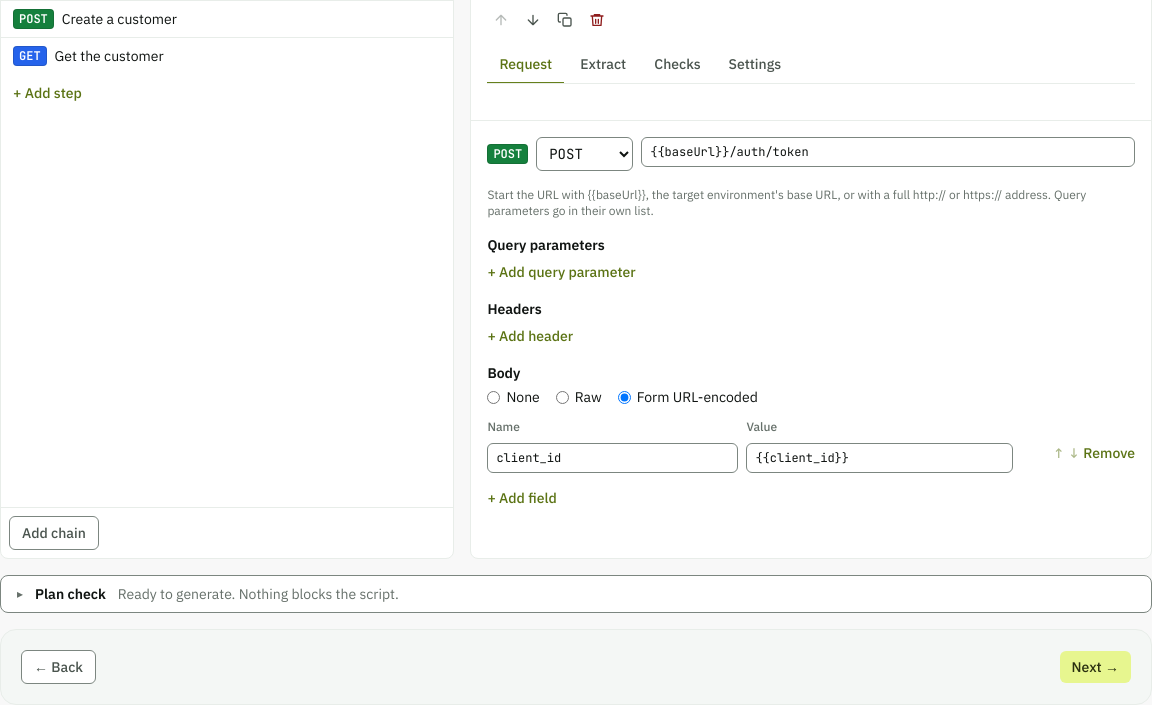
Test: the plan's chains on the Plan step › adds a chain, renames it and deletes it after confirmation
The image size is (1152, 705).
(page scrolled)
Step 1. Click the button "Add chain" → (54, 533), box [9,516,99,550]
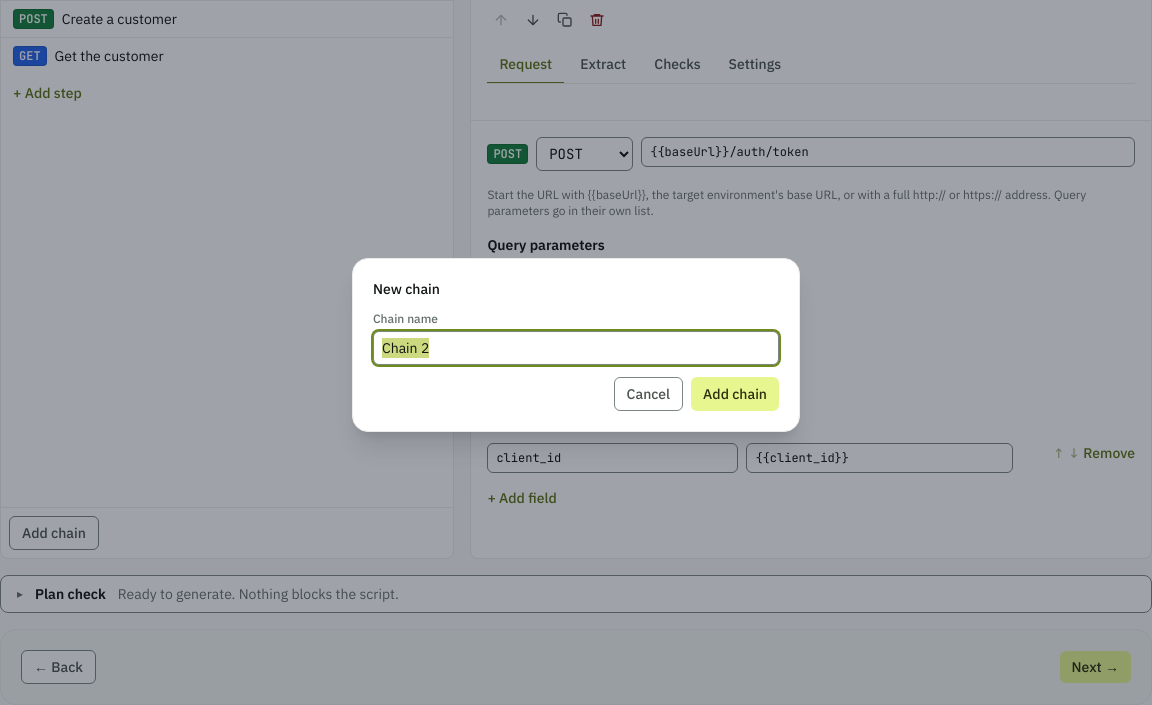
Step 2. Replace the text in the field labelled "Chain name" with "Reports" → (576, 348), box [373,331,779,365]
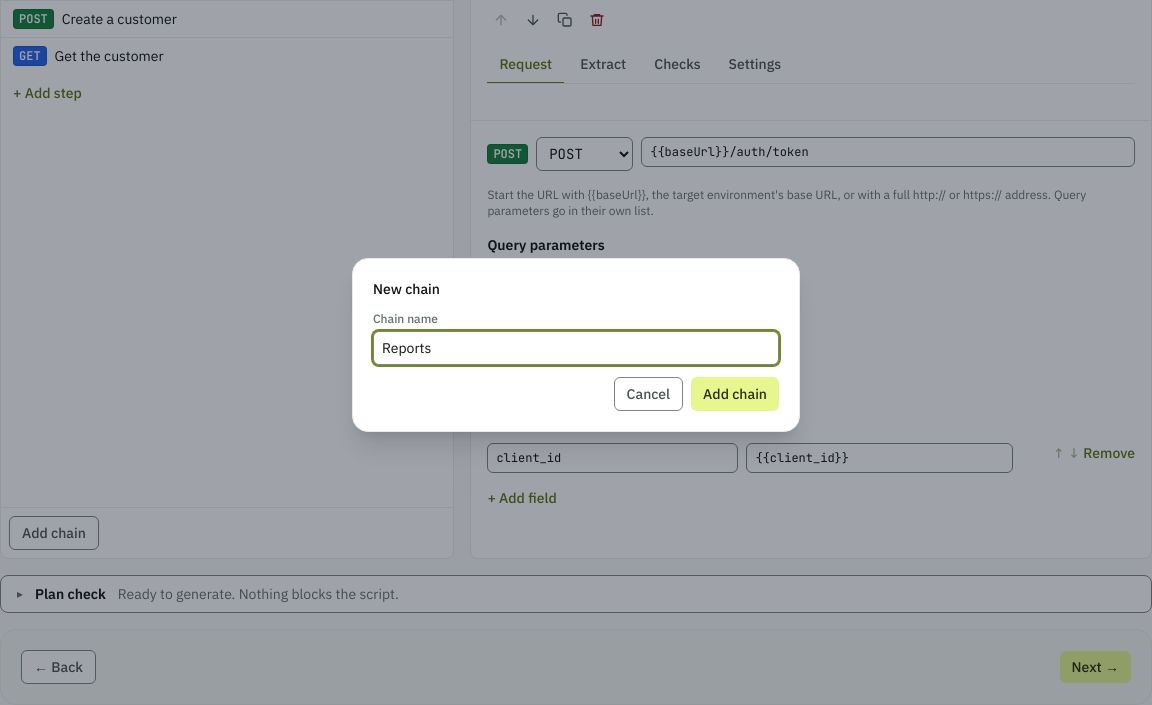
Step 3. Click the button "Add chain" → (735, 394), box [691,377,779,411]
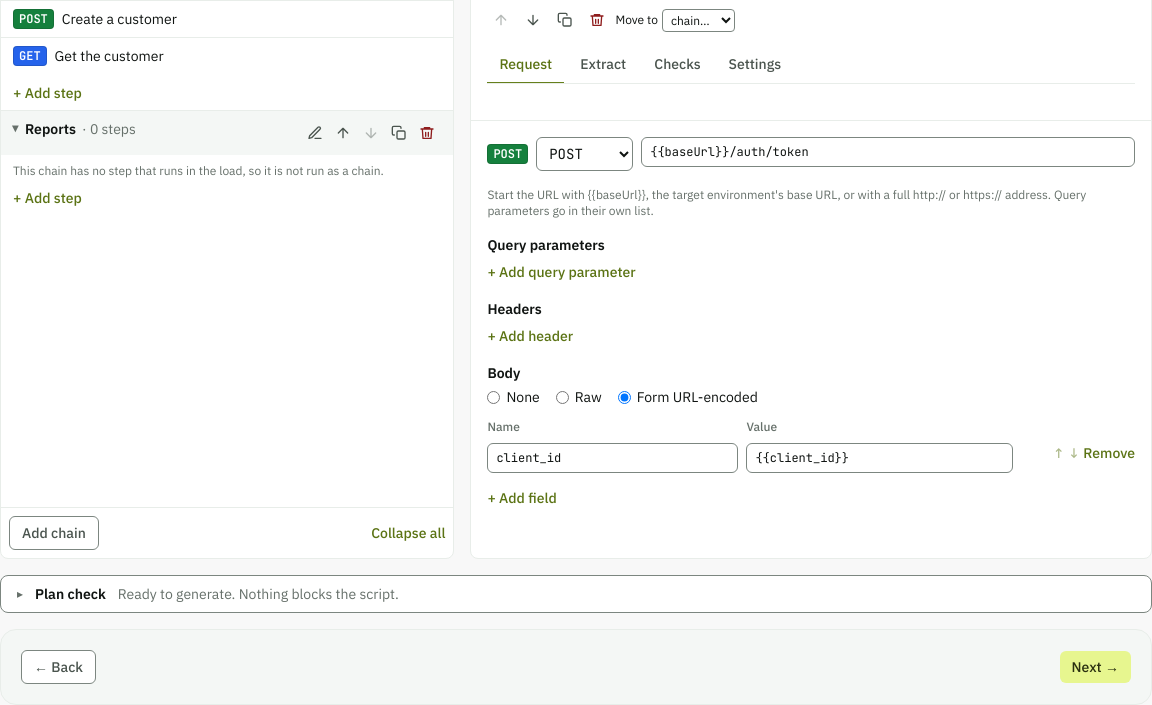
Check: the heading "▸ Reports · 0 steps" is shown, box [13,119,293,139]
Step 4. Click the button named "Delete chain Reports" → (427, 133), box [413,119,441,147]
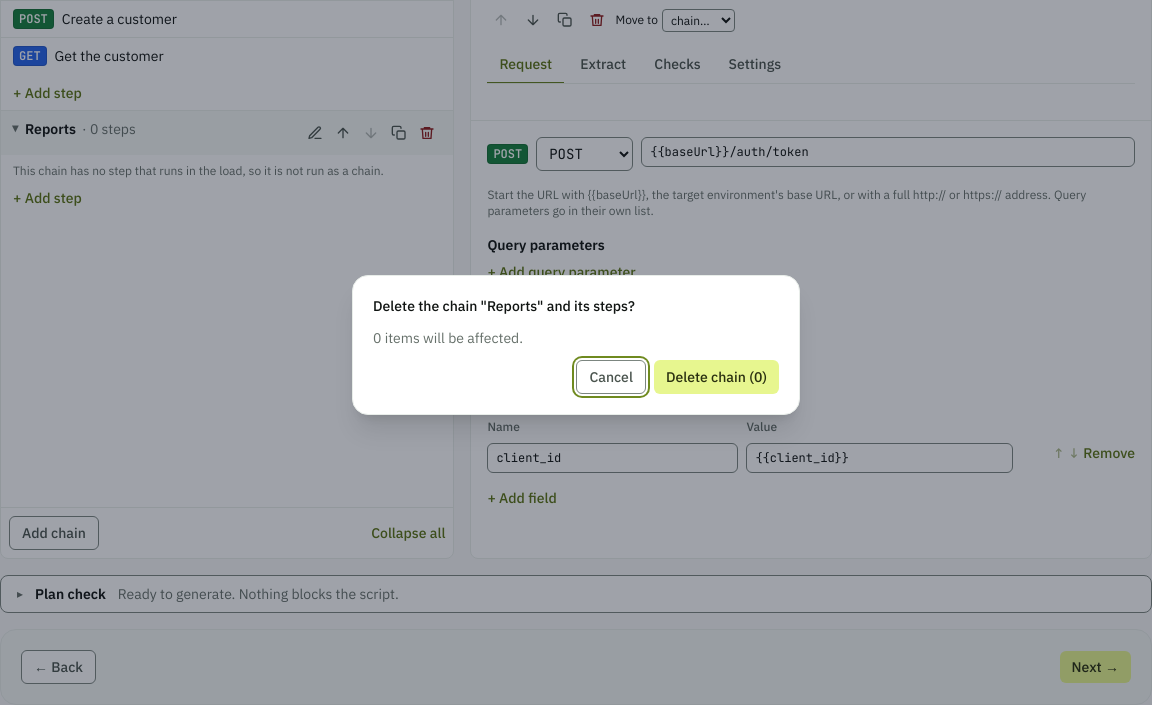
Step 5. Click the button "Delete chain (0)" → (716, 377), box [654,360,779,394]
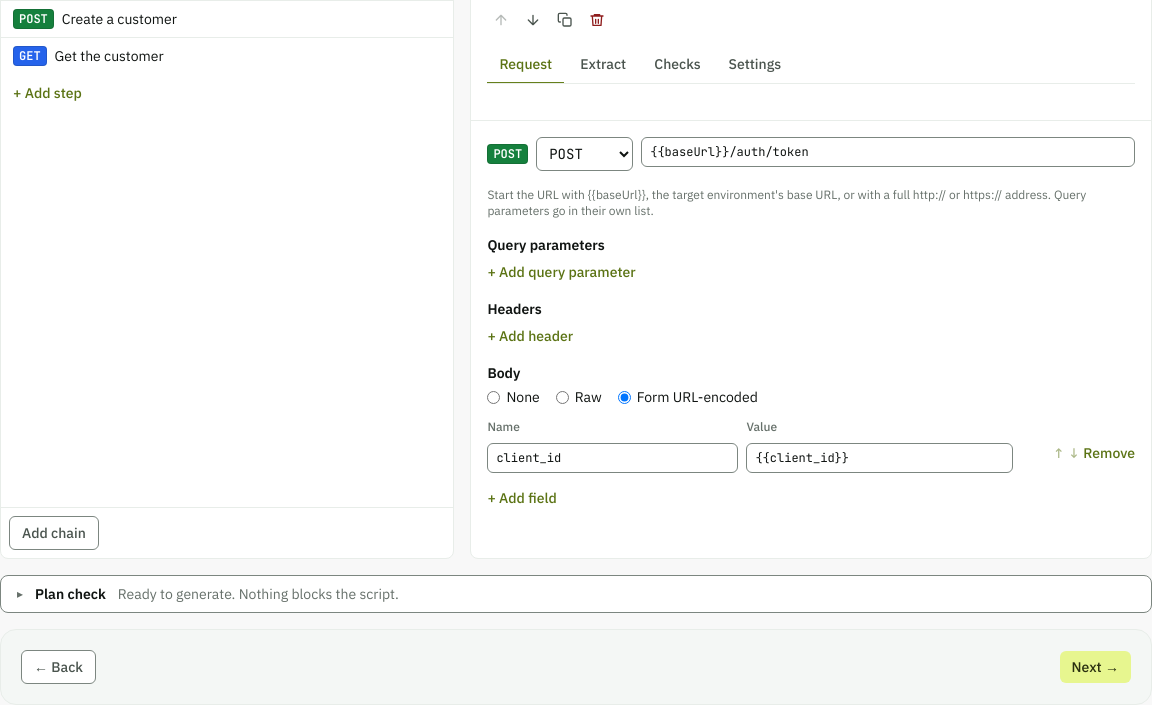
Check: the button "Reports" is gone
